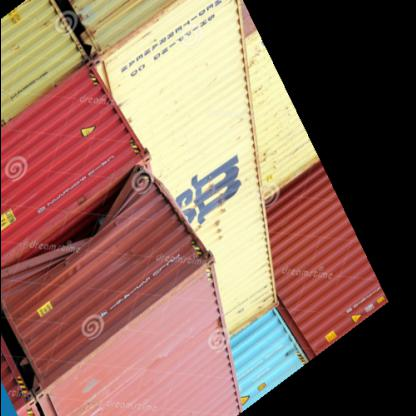Damage: (43, 186, 104, 274)
